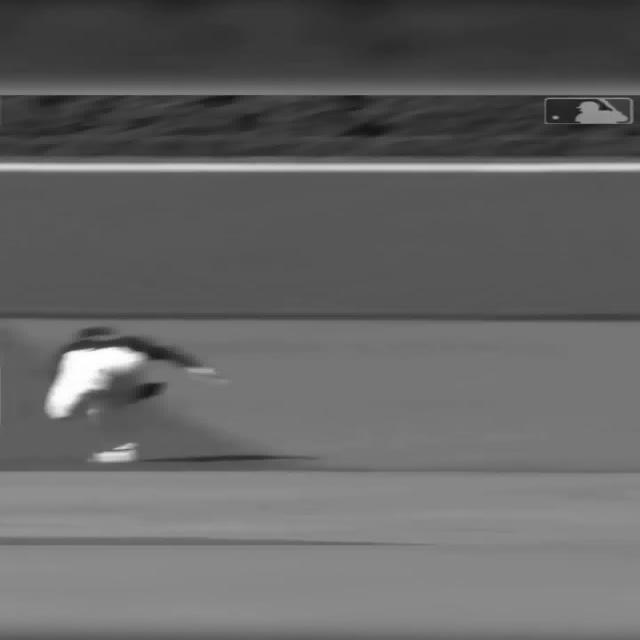baseball_glove: (133, 381, 167, 400)
shoe: (90, 442, 138, 463)
